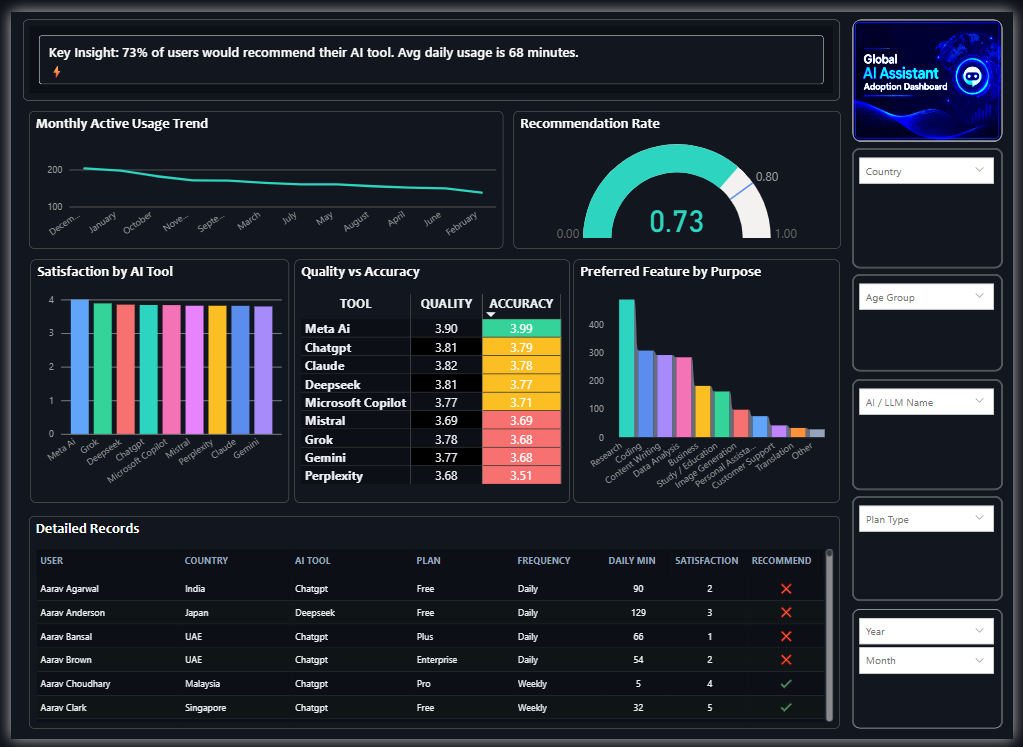

This screenshot's page, from the dashboard's own definition file:
{"tool":"powerbi","page":{"name":"Behavior","canvas":[1310,950],"ordinal":1},"visuals":[{"type":"SmartFilterBySQLBI1458262140625","fields":{"Values":["llm ready_llm_table.Age Group"]},"box":[1100,344,196,126],"z":0},{"type":"SmartFilterBySQLBI1458262140625","fields":{"Values":["llm ready_llm_table.Country"]},"box":[1100,178,196,156],"z":1000},{"type":"SmartFilterBySQLBI1458262140625","fields":{"Values":["llm ready_llm_table.AI / LLM Name"]},"box":[1100,480,196,144],"z":2000},{"type":"SmartFilterBySQLBI1458262140625","fields":{"Values":["llm ready_llm_table.Year","llm ready_llm_table.Month"]},"box":[1100,780,196,156],"z":3000},{"type":"SmartFilterBySQLBI1458262140625","fields":{"Values":["llm ready_llm_table.Plan Type"]},"box":[1100,634,196,136],"z":4000},{"type":"lineChart","title":"Monthly Active Usage Trend","fields":{"Category":["llm ready_llm_table.Month"],"Y":["Dax Measures.Total Users"]},"box":[24,130,620,180],"z":5000},{"type":"gauge","title":"  Recommendation Rate","fields":{"Y":["Dax Measures.% Would Recommend"]},"box":[656,130,428,180],"z":6000},{"type":"lineClusteredColumnComboChart","title":"Satisfaction by AI Tool","fields":{"Category":["llm ready_llm_table.AI / LLM Name"],"Y":["Dax Measures.Avg Satisfaction"]},"box":[26,324,338,318],"z":7000},{"type":"pivotTable","title":"Quality vs Accuracy","fields":{"Rows":["llm ready_llm_table.AI / LLM Name"],"Values":["Dax Measures.Avg Response Quality","Dax Measures.Avg Accuracy"]},"box":[370,324,360,318],"z":8000},{"type":"cardVisual","fields":{"Data":["Dax Measures.Insight Page2"]},"box":[16,10,1068,106],"z":8001},{"type":"columnChart","title":"Preferred Feature by Purpose","fields":{"Category":["llm ready_llm_table.Primary Purpose"],"Y":["Dax Measures.Total Users"]},"box":[736,324,348,318],"z":8002},{"type":"tableEx","title":"Detailed Records","fields":{"Values":["llm ready_llm_table.User Name","llm ready_llm_table.Country","llm ready_llm_table.AI / LLM Name","llm ready_llm_table.Plan Type","llm ready_llm_table.Usage Frequency","Sum(llm ready_llm_table.Daily Usage (Minutes))","Sum(llm ready_llm_table.Satisfaction Score)","llm ready_llm_table.Would Recommend"]},"box":[24,658,1060,278],"z":8003},{"type":"image","box":[1100,10,196,160],"z":8004}]}

Visuals, with their boxes in screenshot pixels (x1, y1, x2, y2), scaled from the page's 1310x950 canvas onto the 1023x747 screenshot:
SmartFilterBySQLBI1458262140625 - llm ready_llm_table.Age Group: pyautogui.locateOnScreen(859, 270, 1012, 370)
SmartFilterBySQLBI1458262140625 - llm ready_llm_table.Country: pyautogui.locateOnScreen(859, 140, 1012, 263)
SmartFilterBySQLBI1458262140625 - llm ready_llm_table.AI / LLM Name: pyautogui.locateOnScreen(859, 377, 1012, 491)
SmartFilterBySQLBI1458262140625 - llm ready_llm_table.Year x llm ready_llm_table.Month: pyautogui.locateOnScreen(859, 613, 1012, 736)
SmartFilterBySQLBI1458262140625 - llm ready_llm_table.Plan Type: pyautogui.locateOnScreen(859, 499, 1012, 605)
"Monthly Active Usage Trend" lineChart: pyautogui.locateOnScreen(19, 102, 503, 244)
"  Recommendation Rate" gauge: pyautogui.locateOnScreen(512, 102, 847, 244)
"Satisfaction by AI Tool" lineClusteredColumnComboChart: pyautogui.locateOnScreen(20, 255, 284, 505)
"Quality vs Accuracy" pivotTable: pyautogui.locateOnScreen(289, 255, 570, 505)
cardVisual - Dax Measures.Insight Page2: pyautogui.locateOnScreen(12, 8, 847, 91)
"Preferred Feature by Purpose" columnChart: pyautogui.locateOnScreen(575, 255, 847, 505)
"Detailed Records" tableEx: pyautogui.locateOnScreen(19, 517, 847, 736)
image: pyautogui.locateOnScreen(859, 8, 1012, 134)
